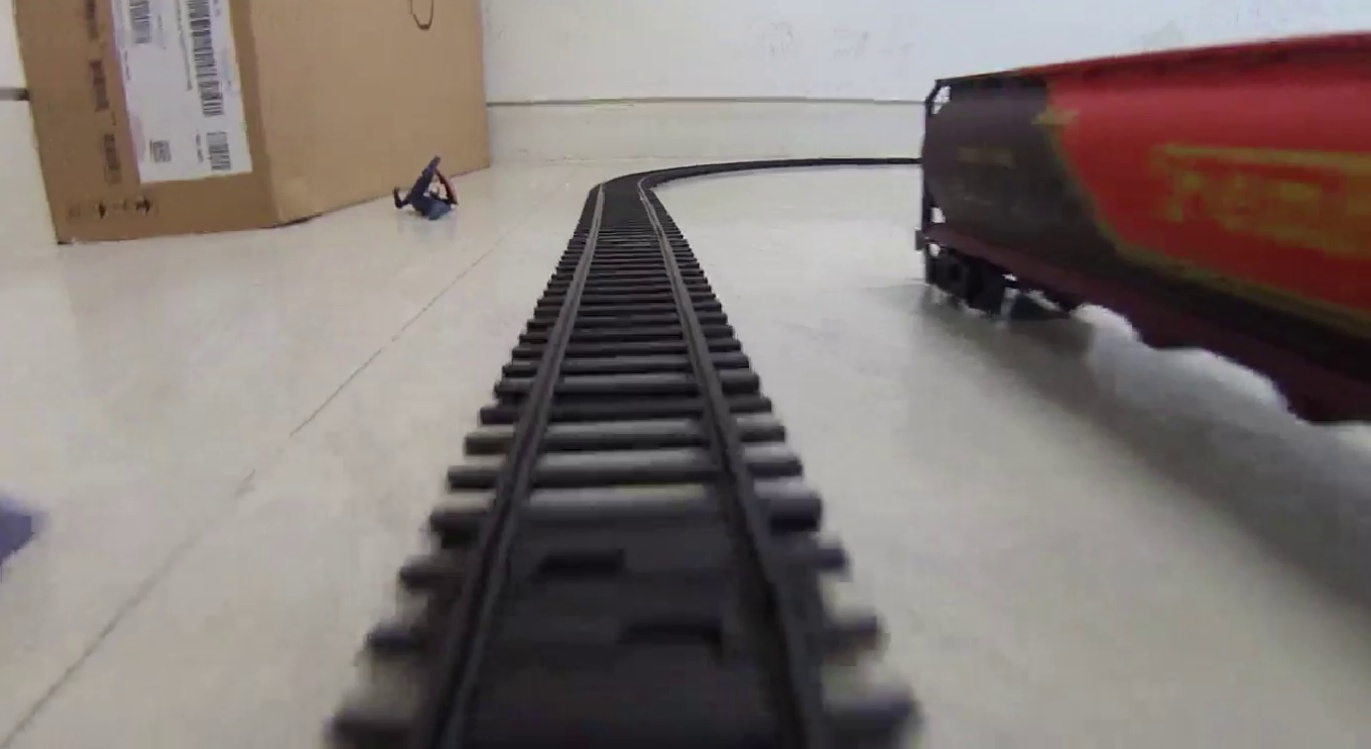people: (394, 160, 460, 220)
